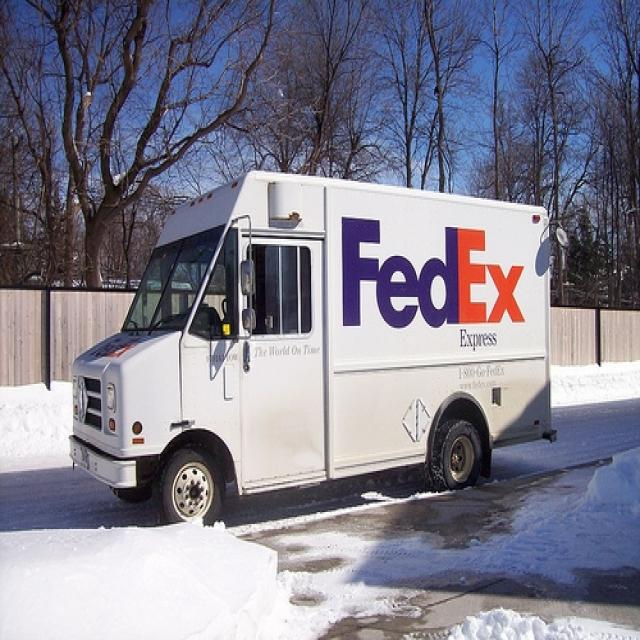fedex: (333, 208, 529, 331)
